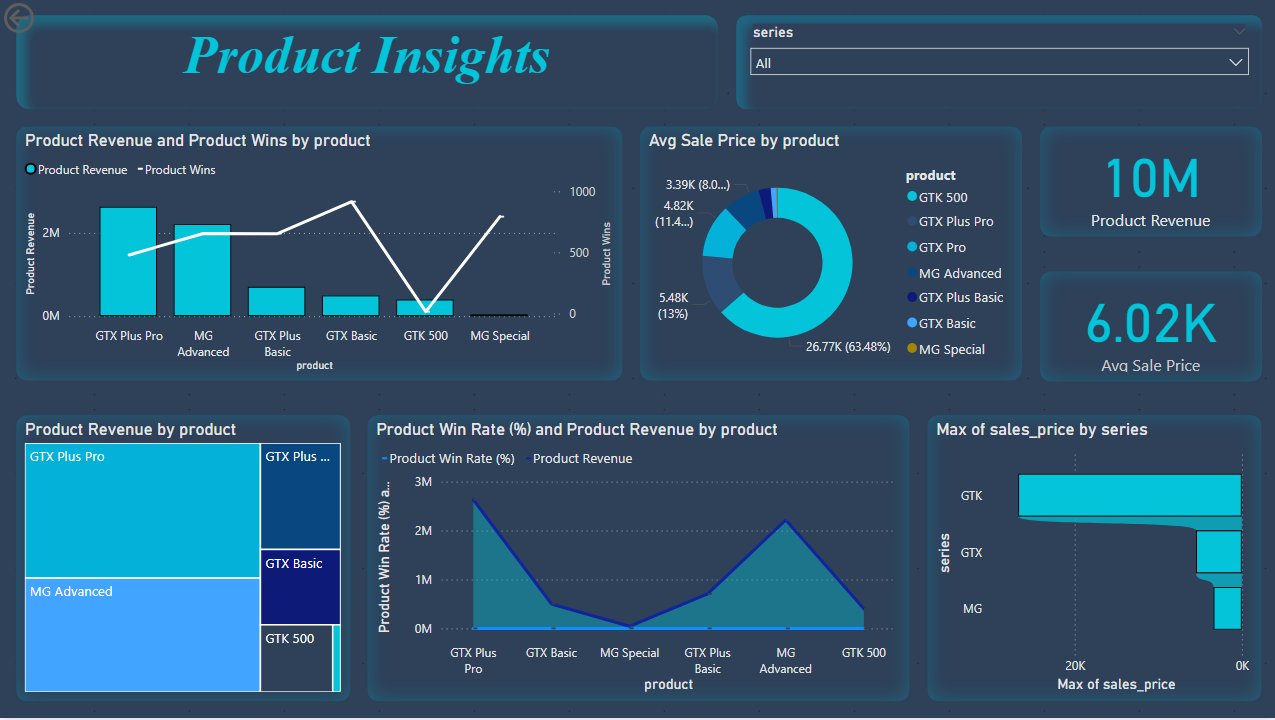

This screenshot's page, from the dashboard's own definition file:
{"tool":"powerbi","page":{"name":"Page 4","canvas":[1280,720],"ordinal":3},"visuals":[{"type":"textbox","box":[16,16,704,96],"z":0},{"type":"treemap","fields":{"Group":["products.product"],"Values":["products.Product Revenue"]},"box":[16,416,336,288],"z":1000},{"type":"barChart","fields":{"Category":["products.series"],"Y":["Max(products.sales_price)"]},"box":[928,416,336,288],"z":2000},{"type":"lineStackedColumnComboChart","fields":{"Category":["products.product"],"Y":["products.Product Revenue"],"Y2":["products.Product Wins"]},"box":[16,128,608,256],"z":3000},{"type":"donutChart","fields":{"Category":["products.product"],"Y":["products.Avg Sale Price"]},"box":[640,128,384,256],"z":4000},{"type":"areaChart","fields":{"Category":["products.product"],"Y":["products.Product Win Rate (%)","products.Product Revenue"]},"box":[368,416,544,288],"z":5000},{"type":"card","fields":{"Values":["products.Product Revenue"]},"box":[1040,128,224,112],"z":6000},{"type":"card","fields":{"Values":["products.Avg Sale Price"]},"box":[1040,272,224,112],"z":7000},{"type":"actionButton","box":[0,0,100,40],"z":8000},{"type":"slicer","fields":{"Values":["products.series"]},"box":[736,16,528,96],"z":9000}]}

Visuals, with their boxes in screenshot pixels (x1, y1, x2, y2), scaled from the page's 1280x720 canvas onto the 1275x720 screenshot:
textbox: left=16, top=16, right=717, bottom=112
treemap - products.product x products.Product Revenue: left=16, top=416, right=351, bottom=704
barChart - products.series x Max(products.sales_price): left=924, top=416, right=1259, bottom=704
lineStackedColumnComboChart - products.product x products.Product Revenue: left=16, top=128, right=622, bottom=384
donutChart - products.product x products.Avg Sale Price: left=638, top=128, right=1020, bottom=384
areaChart - products.product x products.Product Win Rate (%): left=367, top=416, right=908, bottom=704
card - products.Product Revenue: left=1036, top=128, right=1259, bottom=240
card - products.Avg Sale Price: left=1036, top=272, right=1259, bottom=384
actionButton: left=0, top=0, right=100, bottom=40
slicer - products.series: left=733, top=16, right=1259, bottom=112
